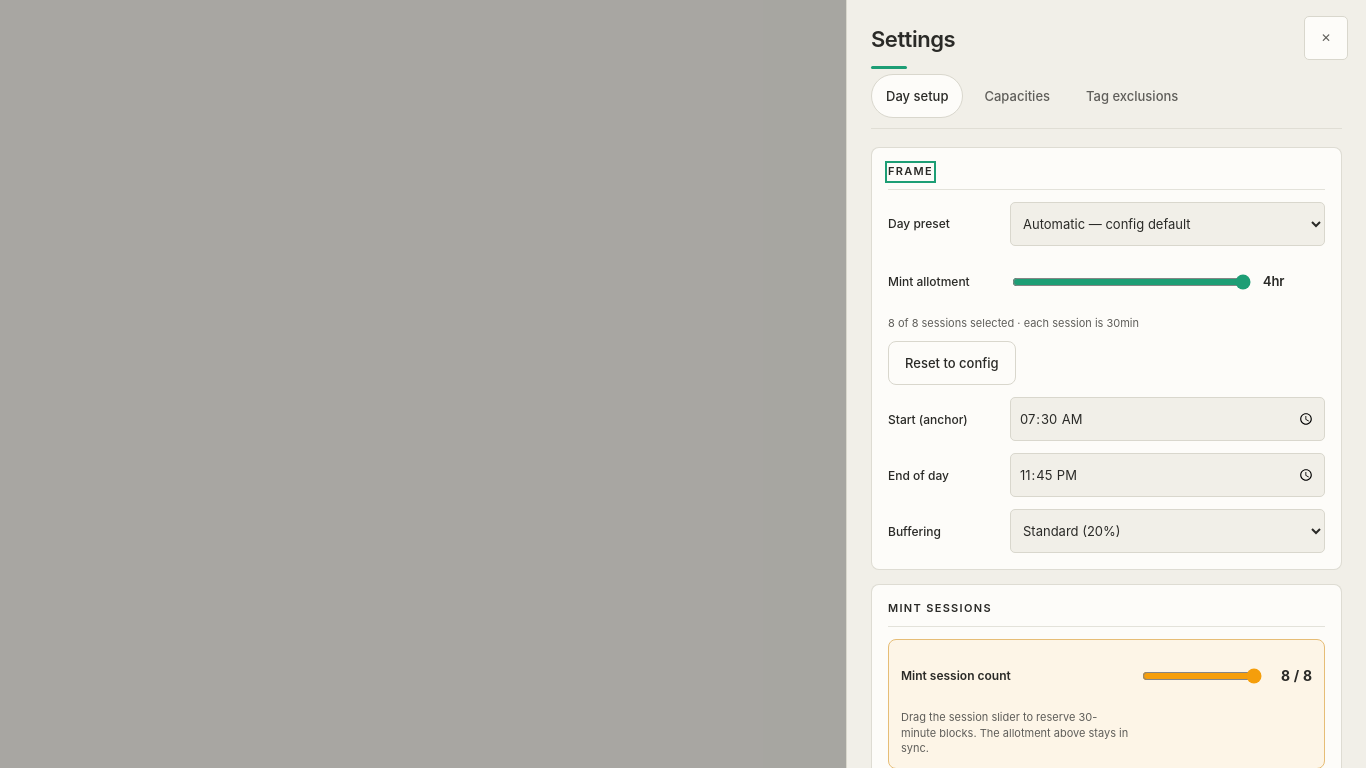
it: T18g Day Setup semantics › allows fewer than eight Mint blocks but warns clearly
The image size is (1366, 768).
Set the slider labelled "Mint session count" to "7" at (1241,676), box [1142,654,1262,698]
(page scrolled)
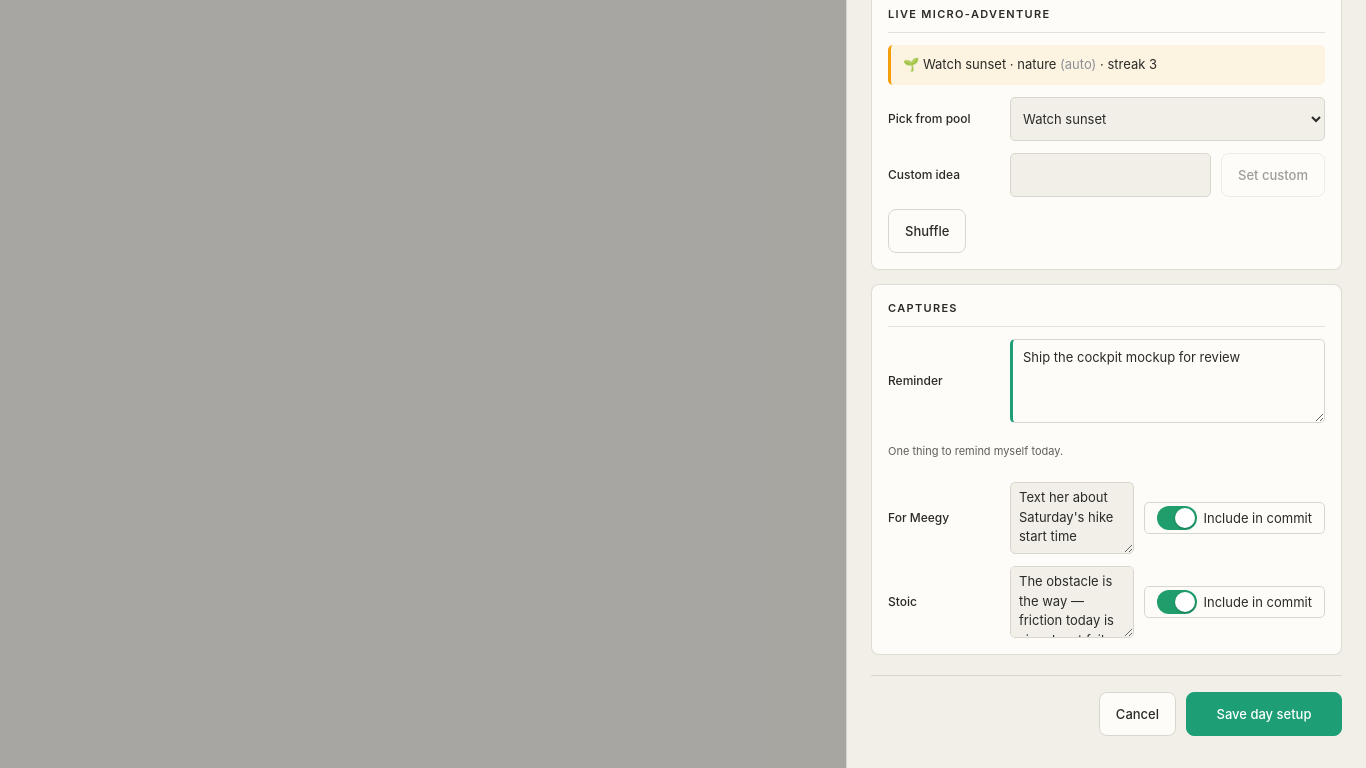
Result: the button "Save day setup" is enabled at [1186,692,1342,736]
